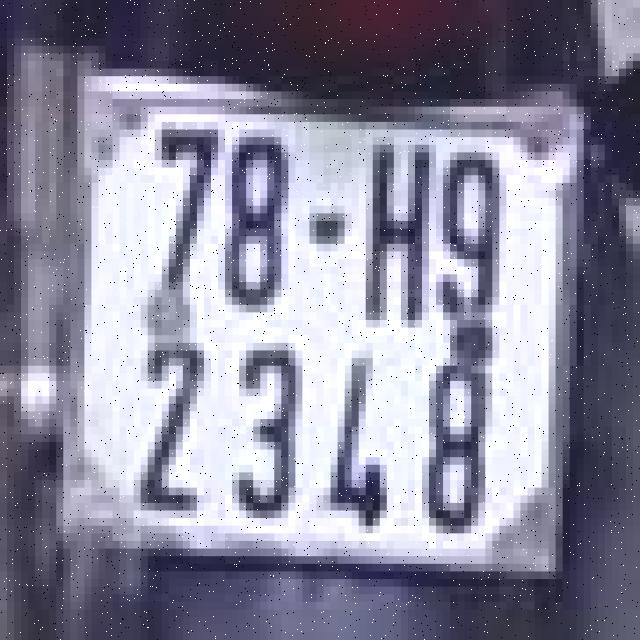2: (137, 332, 215, 530)
3: (222, 331, 313, 522)
4: (320, 339, 390, 537)
7: (151, 114, 222, 305)
8: (418, 358, 510, 541), (228, 111, 292, 316)
9: (432, 148, 510, 332)
H: (362, 137, 440, 335)
